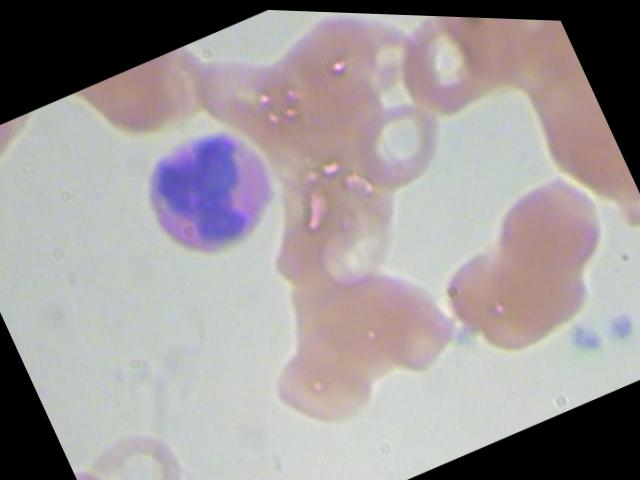Platelets: (563, 305, 612, 358), (597, 294, 639, 348)
Red Blood Cells: (478, 148, 620, 293), (178, 24, 308, 160), (372, 11, 514, 135), (422, 220, 550, 354), (343, 256, 470, 390), (262, 315, 392, 443), (338, 77, 461, 199), (68, 401, 211, 479)
White Blood Cells: (108, 91, 307, 292)
